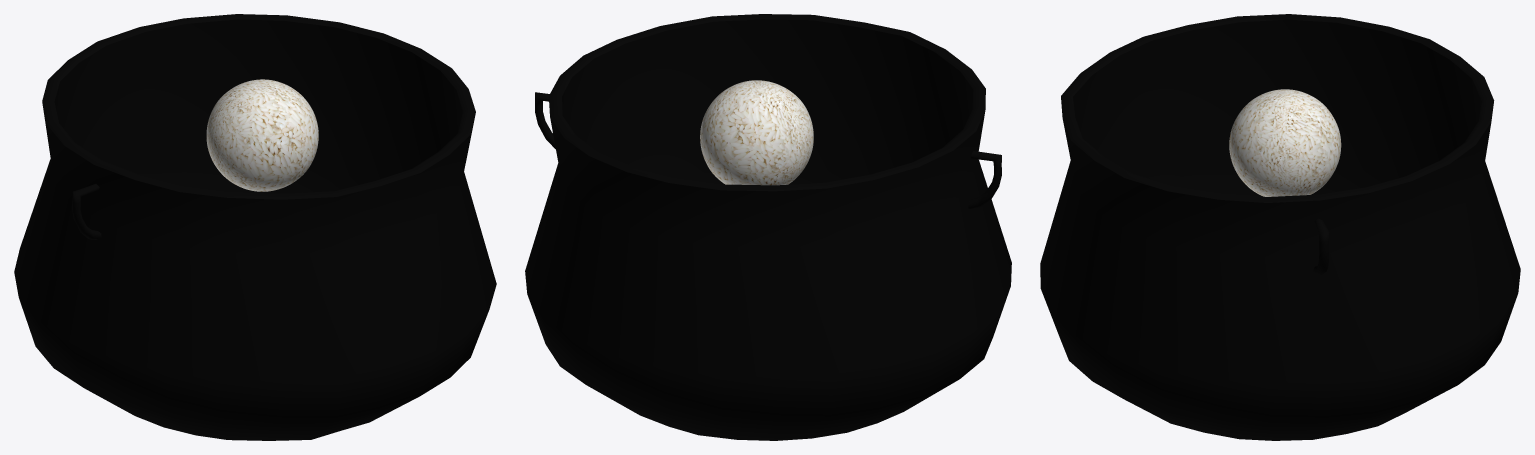
Rendered from OllaConArroz.fbx.
The picture shows the model from 3 angles, left to right: view 1: azimuth 30°, elevation 25°; view 2: azimuth 150°, elevation 25°; view 3: azimuth 270°, elevation 25°; orthographic projection.
Parts seen in each view (by area): view 1: Plate.001; view 2: Plate.001; view 3: Plate.001.
Part boxes in pixels (x1,y1,x2,y2): Plate.001: (14, 14, 496, 440); Plate.001: (525, 14, 1011, 440); Plate.001: (1040, 14, 1520, 440).
Bounding box in the file's own units: 52.85 × 34.9 × 52.81.
2 materials, 1 textured.
